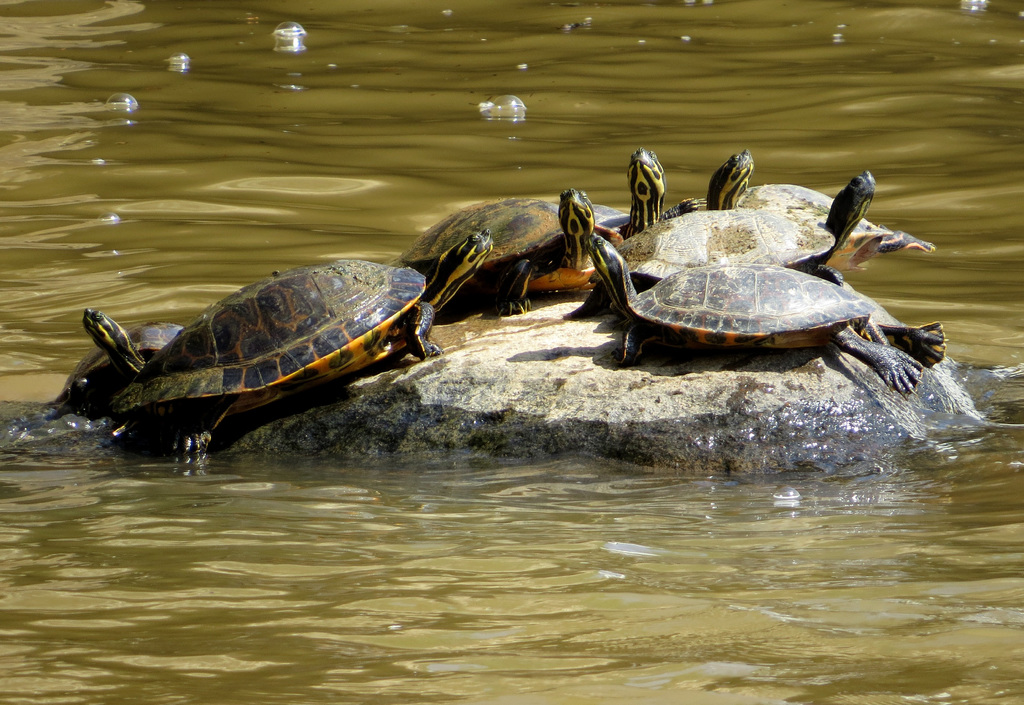Sea turtles: (35, 139, 949, 467)
